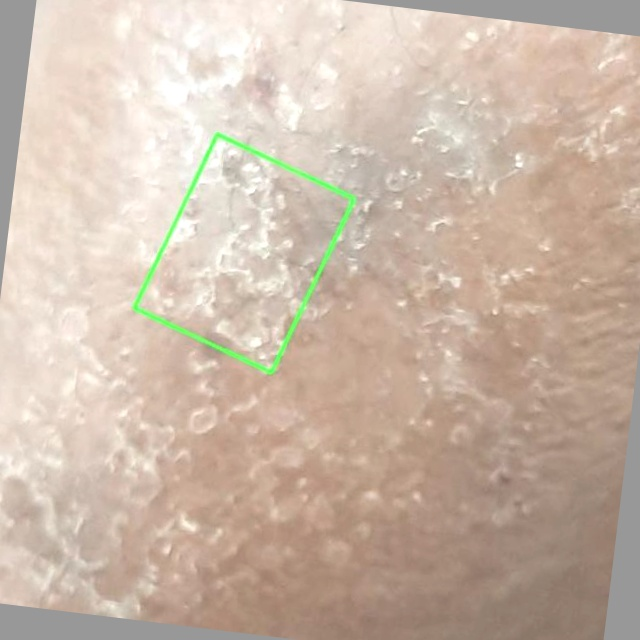Eczema: (135, 134, 354, 373)
